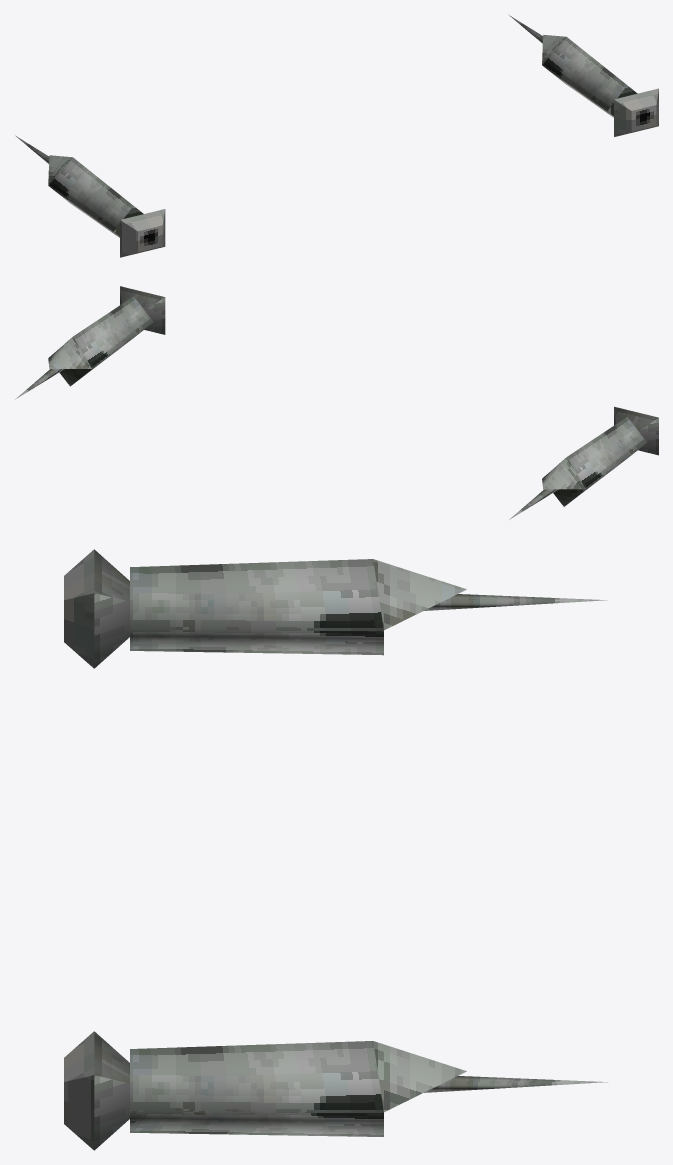
File: black_sun_fighter_medium_weapon1_s03_l3.fbx
The picture shows the model from 3 angles, top to bottom: view 1: azimuth 30°, elevation 25°; view 2: azimuth 150°, elevation 25°; view 3: azimuth 270°, elevation 25°; orthographic projection. The views are drawn at different scales.
Visible parts, largest first — view 1: mesh_node; view 2: mesh_node; view 3: mesh_node.
Part boxes in pixels (bbox=[...]): mesh_node: bbox=[15, 14, 658, 257]; mesh_node: bbox=[15, 286, 658, 519]; mesh_node: bbox=[64, 549, 607, 1150].
Bounding box in the file's own units: 13.02 × 1.11 × 5.7.
